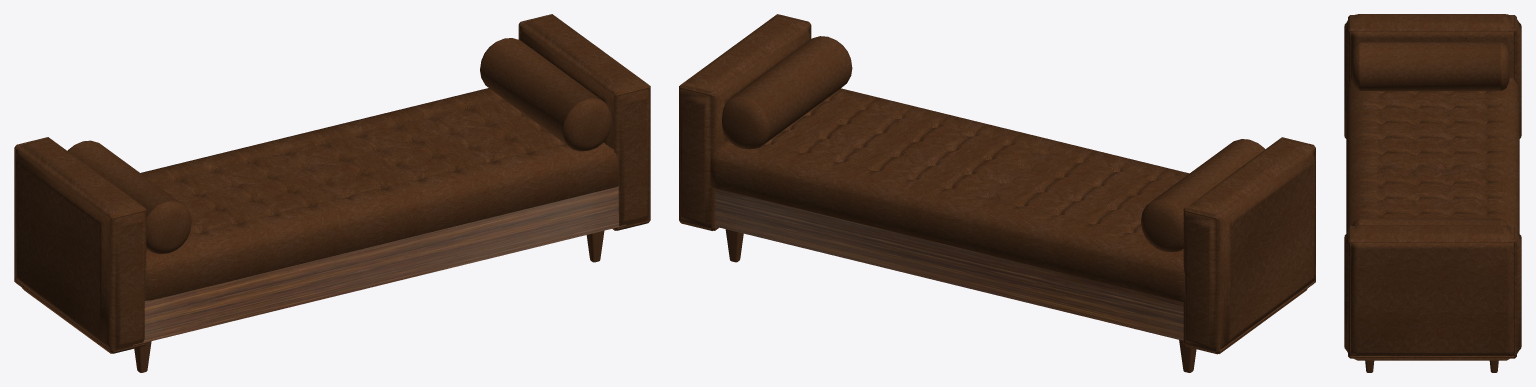
File: obj_leather_bench_40f477.glb
3 views of the same model, side by side, from view 1: azimuth 30°, elevation 25°; view 2: azimuth 150°, elevation 25°; view 3: azimuth 270°, elevation 25° (orthographic). The views are drawn at different scales.
Parts seen in each view (by area): view 1: obj_leather_bench_40f477; view 2: obj_leather_bench_40f477; view 3: obj_leather_bench_40f477.
Boxes of the visible parts, x1=… form: obj_leather_bench_40f477: x1=14, y1=14, x2=650, y2=372; obj_leather_bench_40f477: x1=679, y1=14, x2=1315, y2=372; obj_leather_bench_40f477: x1=1344, y1=14, x2=1521, y2=372.
Size of the model in its own units: 2 by 0.617 by 0.646.
Materials: 4 (4 with a texture image).
